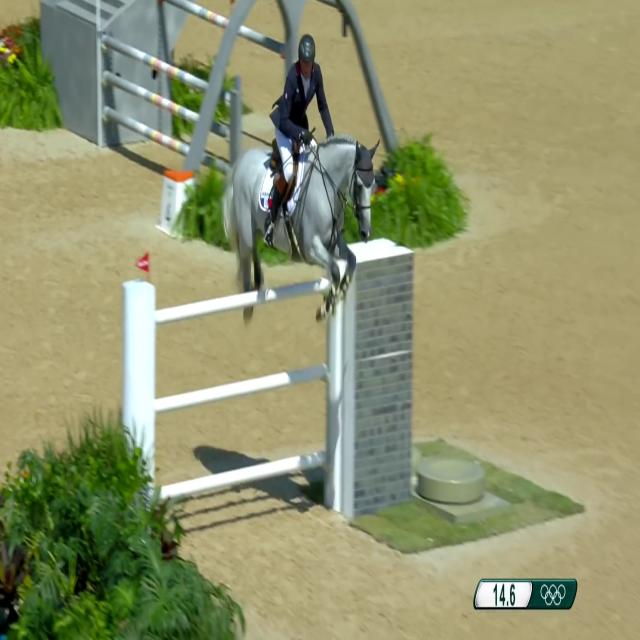Horse Jumping: (220, 123, 376, 346)
Horse Rider: (249, 46, 329, 250)
